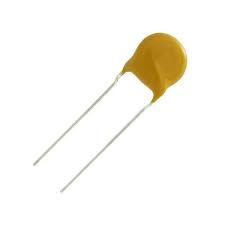ceramic capacitor: (84, 18, 201, 107)
